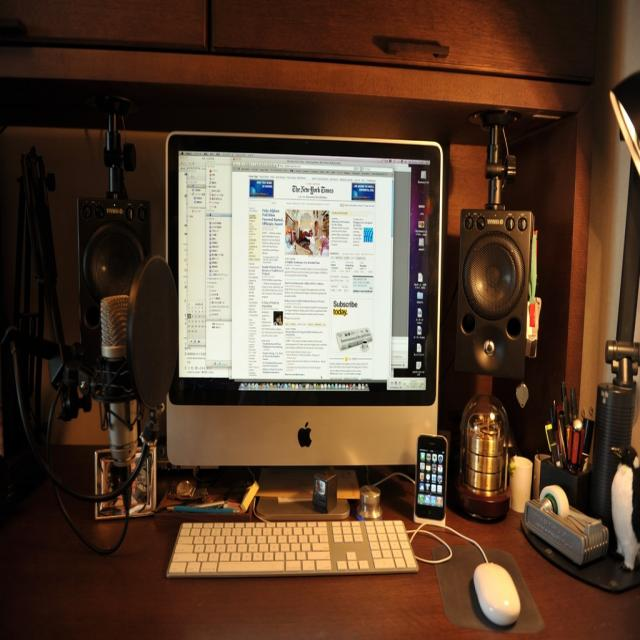desk: (0, 441, 639, 639)
keyboard: (165, 516, 421, 579)
mouse: (469, 563, 522, 629)
tv: (164, 133, 446, 460)
